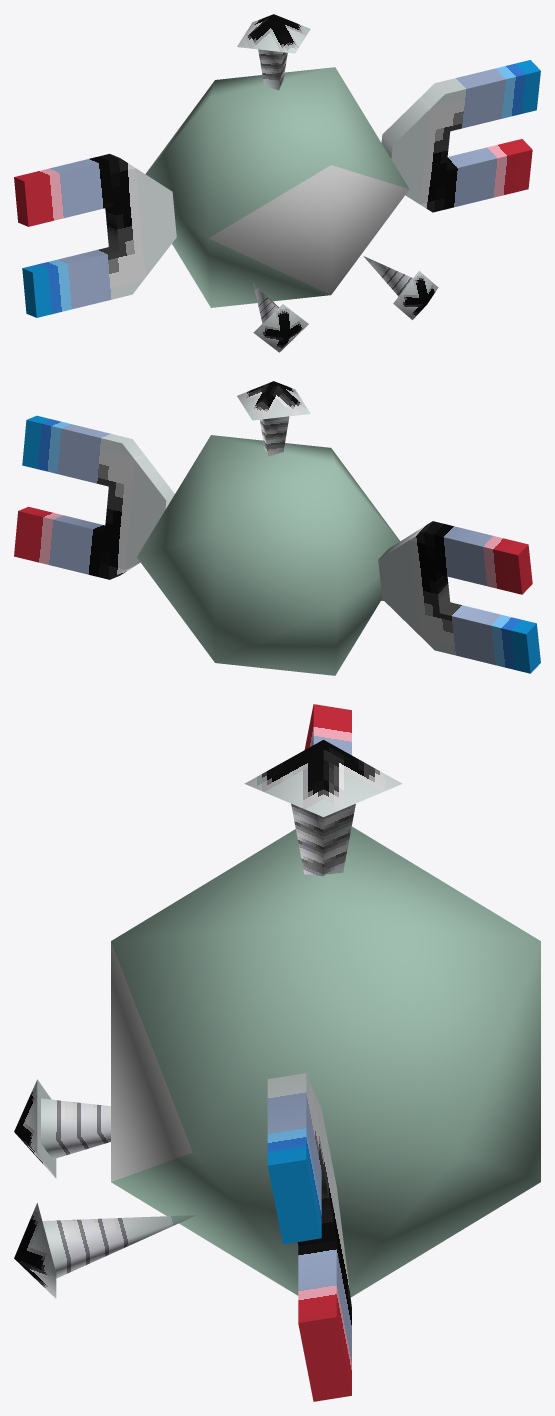
The model's file is Magnemite.obj.
3 views of the same model, one above another, from view 1: azimuth 30°, elevation 25°; view 2: azimuth 150°, elevation 25°; view 3: azimuth 270°, elevation 25° (orthographic). The views are drawn at different scales.
Parts seen in each view (by area): view 1: merged_0_0_node, merged_1_0_node; view 2: merged_0_0_node; view 3: merged_0_0_node, merged_1_0_node.
Boxes of the visible parts, x1,y1,x2,y2 form: merged_0_0_node: (14,14,540,352); merged_1_0_node: (209,165,409,294); merged_0_0_node: (14,381,540,675); merged_0_0_node: (14,704,540,1401); merged_1_0_node: (111,942,192,1181).
Bounding box in the file's own units: 0.8257 × 0.4369 × 0.4037.
